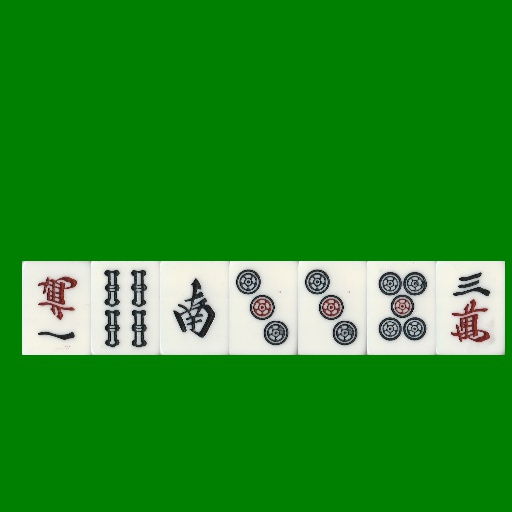1m: (22, 261, 91, 355)
3m: (436, 261, 505, 355)
3p: (229, 261, 298, 355), (298, 261, 367, 355)
4s: (91, 261, 160, 355)
5p: (367, 261, 436, 355)
south: (160, 261, 229, 355)
